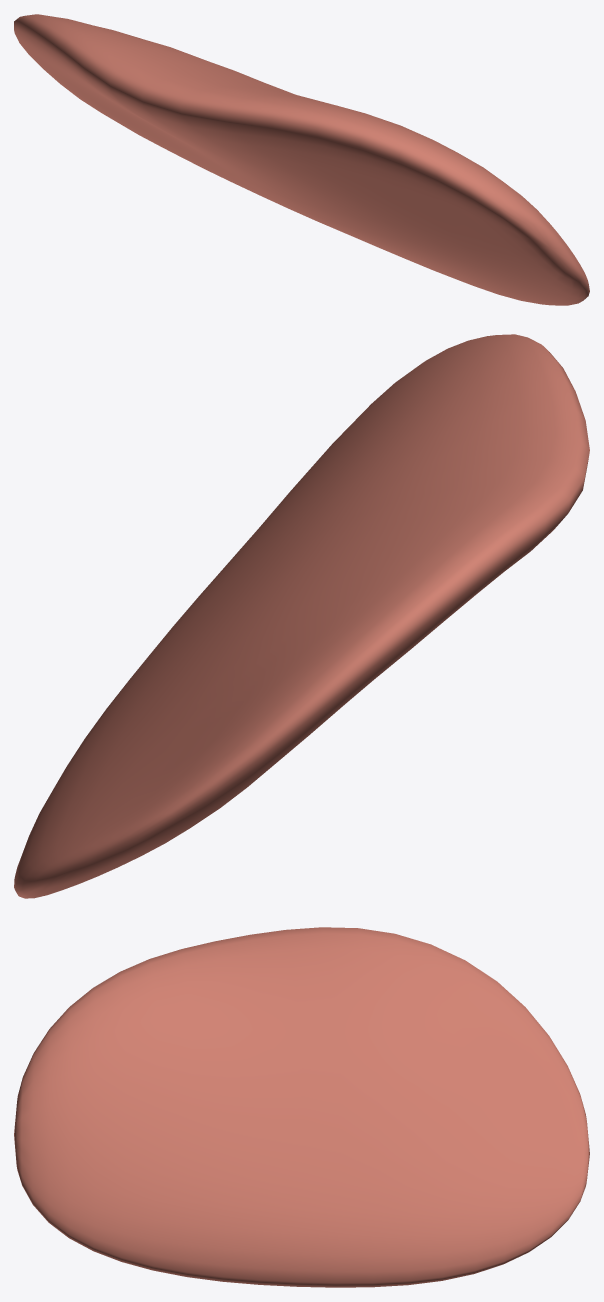
3 renders of one model, top to bottom at view 1: azimuth 30°, elevation 25°; view 2: azimuth 150°, elevation 25°; view 3: azimuth 270°, elevation 25°, orthographic. The views are drawn at different scales.
Parts seen in each view (by area): view 1: 左侧臀大肌转子囊; view 2: 左侧臀大肌转子囊; view 3: 左侧臀大肌转子囊.
Boxes of the visible parts, x1,y1,x2,y2 form: 左侧臀大肌转子囊: (14,14,589,305); 左侧臀大肌转子囊: (14,334,589,898); 左侧臀大肌转子囊: (14,927,589,1287).
Size of the model in its own units: 0.0257 by 0.0199 by 0.0442.
